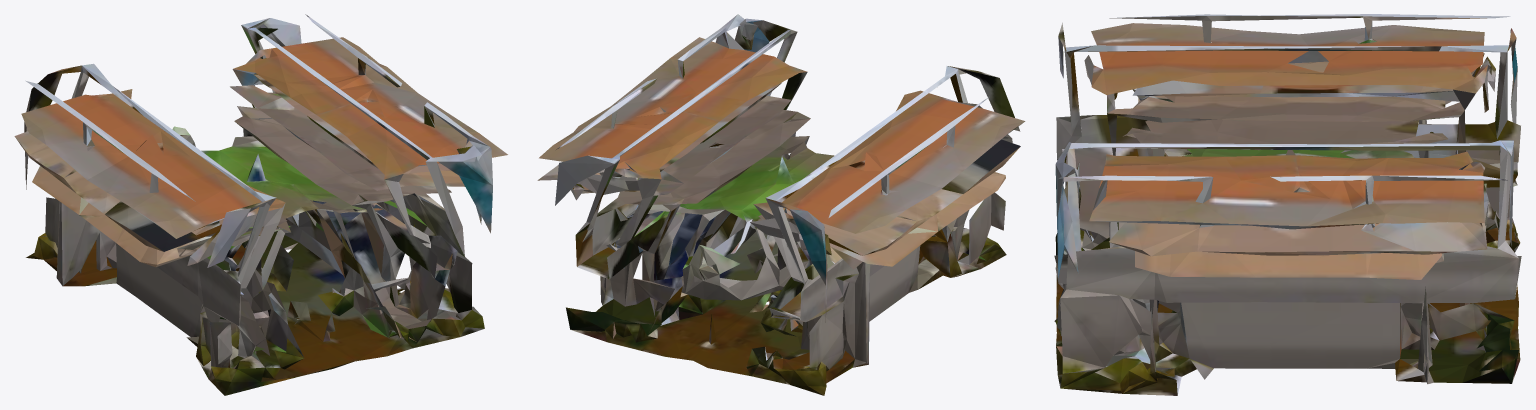
Rendered from cubierta_sepang.glb.
3 views of the same model, side by side, from view 1: azimuth 30°, elevation 25°; view 2: azimuth 150°, elevation 25°; view 3: azimuth 270°, elevation 25° (orthographic). The views are drawn at different scales.
Parts seen in each view (by area): view 1: tmp5so43t5p.ply; view 2: tmp5so43t5p.ply; view 3: tmp5so43t5p.ply.
Part boxes in pixels (box(x1,y1,x2,y2)): tmp5so43t5p.ply: box(14, 14, 507, 395); tmp5so43t5p.ply: box(537, 14, 1025, 395); tmp5so43t5p.ply: box(1054, 14, 1521, 395).
Size of the model in its own units: 1.99 by 1.04 by 1.99.
Materials: 1 (1 with a texture image).
